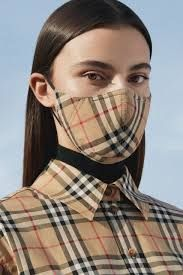with-mask: (34, 29, 159, 169)
